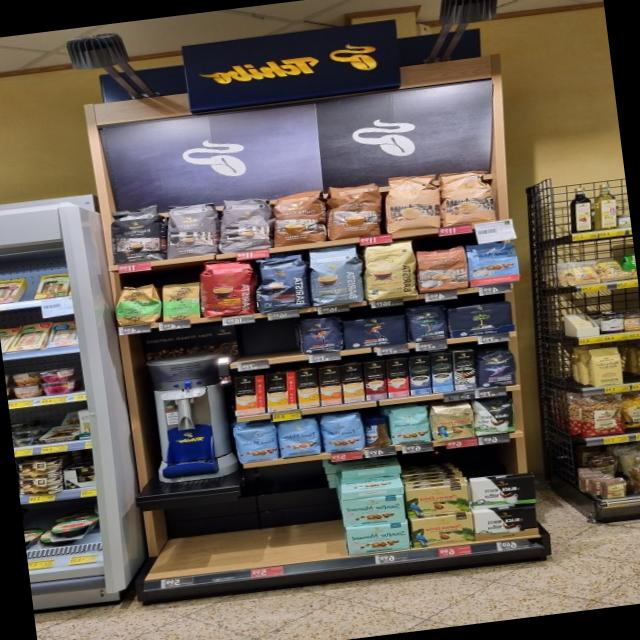Athiopien Bohne: (111, 282, 160, 328)
Athiopien Gemahlen: (158, 280, 204, 323)
BM Bohne: (406, 303, 448, 343)
BM Gemahlen: (446, 300, 513, 338)
BW Bohne: (471, 393, 518, 438)
BW Gemahlen: (467, 474, 538, 512), (472, 506, 538, 542)
Barista CB: (359, 238, 421, 302)
Barista CC: (304, 244, 366, 308)
Barista Espresso: (250, 250, 312, 314)
Barista Kolumbien: (197, 257, 260, 320)
C Fino Bohne: (475, 346, 520, 389)
CC Mild: (380, 172, 444, 236), (436, 166, 498, 229)
CC Vollmundig: (415, 243, 469, 293)
CC Vollmundig 36 Pads: (266, 186, 330, 249), (322, 180, 386, 242)
Colombia BB Bohne: (428, 401, 476, 444)
Colombia BB Gemahlen: (402, 482, 470, 519), (408, 511, 476, 548)
Empty Shelf: (136, 486, 344, 580), (227, 319, 298, 362)
Espresso Aromatisch: (212, 192, 274, 255), (160, 198, 220, 260)
Espresso Kraftig: (104, 202, 166, 266)
FM 36 Pads: (465, 238, 520, 288)
FM Bohne: (232, 422, 280, 465), (320, 410, 366, 454), (276, 416, 322, 458)
FM Instant: (362, 414, 391, 448)
LG Bohne: (296, 313, 342, 355)
LG Gemahlen: (340, 313, 408, 350)
SM Bohne: (387, 404, 432, 446)
SM Gemahlen: (340, 493, 408, 528), (345, 522, 410, 556)
Simo CCMild: (262, 372, 298, 412)
Simo CCMild bigpack: (294, 368, 320, 408)
Simo CCVollmundig: (232, 374, 267, 416)
Simo CCVollmundig bigpack: (316, 366, 344, 406)
Simo Decaff: (340, 363, 365, 403)
Simo Es Brazil: (384, 358, 412, 398)
Simo Es Caramel: (362, 360, 388, 401)
Simo Es Elegant: (450, 350, 478, 391)
Simo Es Kraft: (406, 354, 434, 396)
Simo Es Vanilla: (428, 352, 456, 393)
